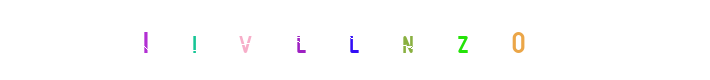0: (478, 0, 558, 80)
1: (154, 0, 234, 80)
I: (200, 0, 280, 80)
L: (313, 0, 393, 80), (314, 0, 394, 80)
N: (376, 0, 456, 80)
V: (262, 0, 342, 80)
Z: (422, 0, 502, 80)
